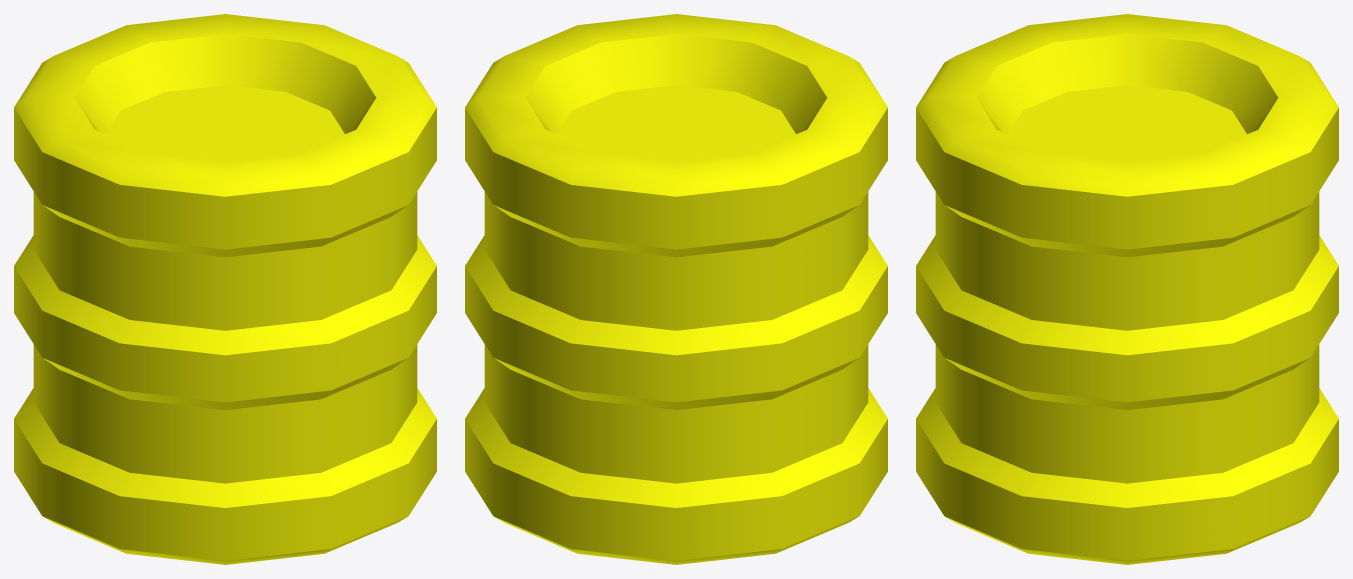
File: kaykit-barrel-c.glb
The picture shows the model from 3 angles, left to right: view 1: azimuth 30°, elevation 25°; view 2: azimuth 150°, elevation 25°; view 3: azimuth 270°, elevation 25°; orthographic projection.
Parts seen in each view (by area): view 1: Barrel_C; view 2: Barrel_C; view 3: Barrel_C.
Part boxes in pixels (x1=…): Barrel_C: x1=14, y1=14, x2=436, y2=564; Barrel_C: x1=465, y1=14, x2=887, y2=564; Barrel_C: x1=916, y1=14, x2=1338, y2=564.
Size of the model in its own units: 1 by 1 by 1.
